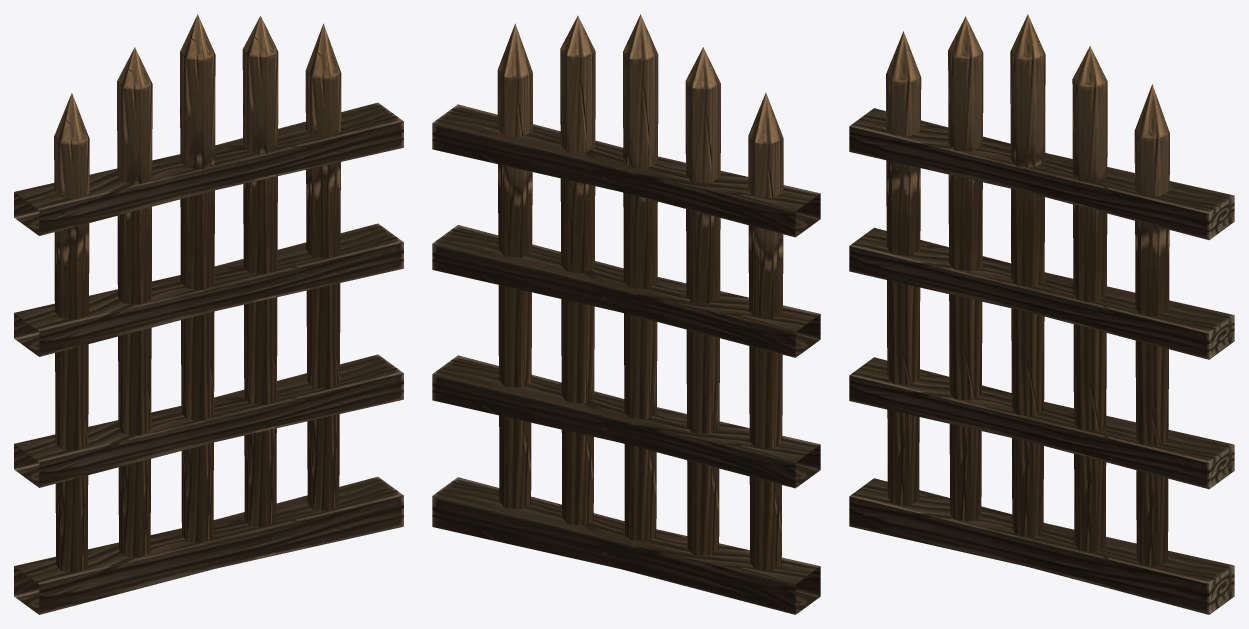
Rendered from zhalan.FBX.
3 renders of one model, left to right at view 1: azimuth 30°, elevation 25°; view 2: azimuth 150°, elevation 25°; view 3: azimuth 330°, elevation 25°, orthographic.
Parts seen in each view (by area): view 1: eew004; view 2: eew004; view 3: eew004.
Boxes of the visible parts, x1,y1,x2,y2 form: eew004: (14, 14, 403, 614); eew004: (432, 14, 820, 614); eew004: (849, 14, 1234, 614).
Size of the model in its own units: 2.6 by 3.76 by 0.3184.
